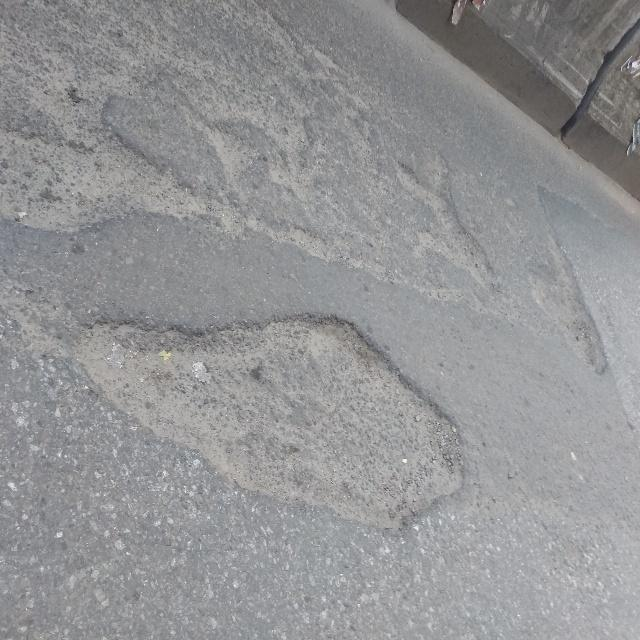Surface Erosion: (44, 0, 640, 640)
